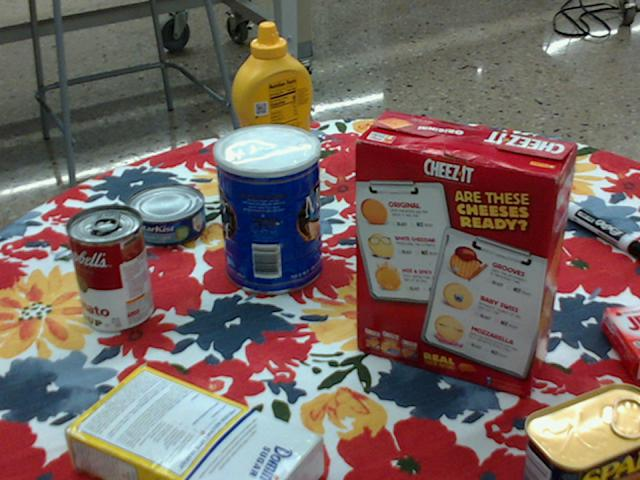cracker_box: (354, 112, 577, 401)
gelatin_box: (600, 306, 639, 380)
large_marker: (562, 202, 639, 260)
master_chef_can: (214, 123, 321, 295)
mug: (396, 137, 476, 219)
mustard_bottle: (234, 24, 317, 193)
potted_meat_can: (522, 382, 639, 479)
sugar_box: (63, 366, 323, 479)
tomato_soup_can: (67, 203, 152, 332)
tuna_fish_can: (127, 183, 207, 245)
